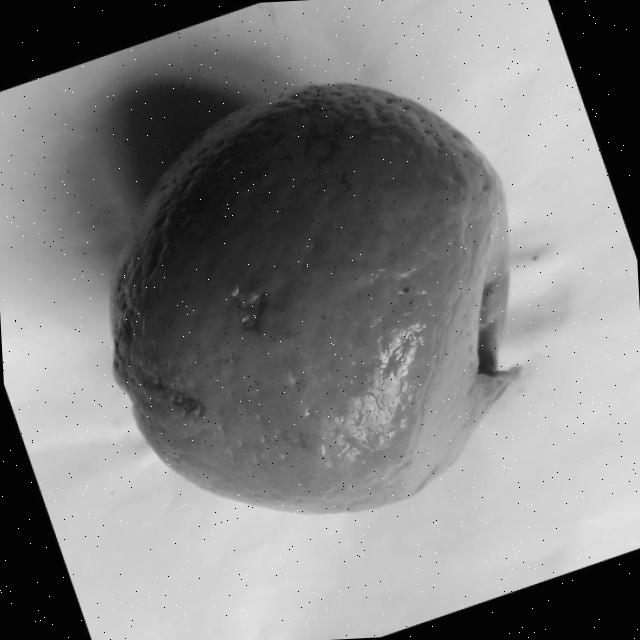Rotten: (94, 72, 532, 527)
